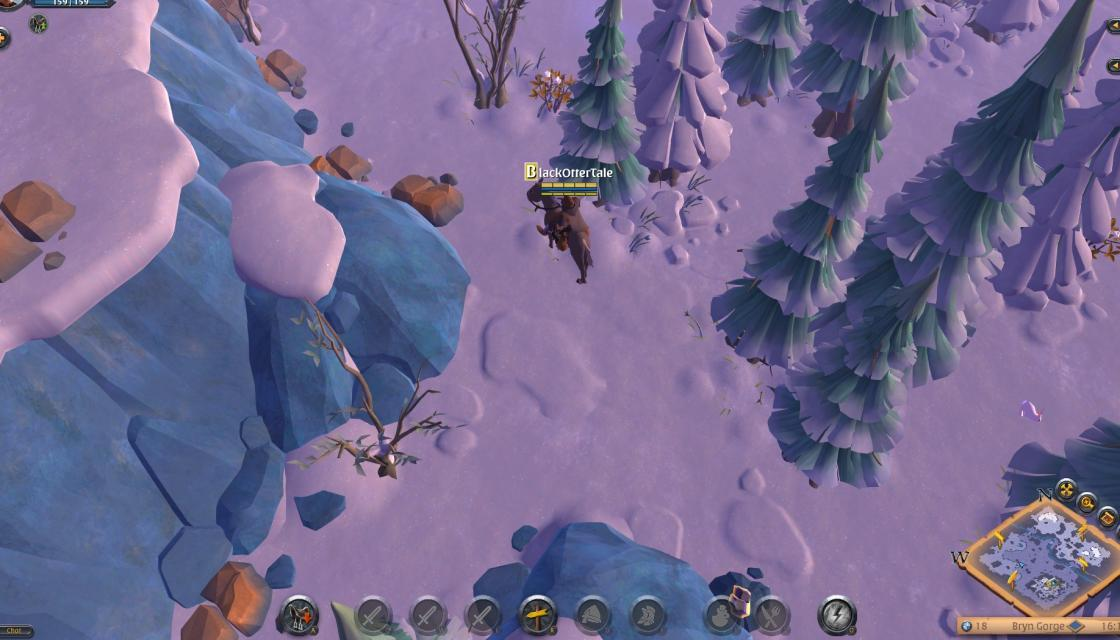limestone: (172, 558, 275, 640), (0, 174, 74, 284), (386, 168, 466, 228), (302, 140, 374, 189), (250, 46, 310, 95)
